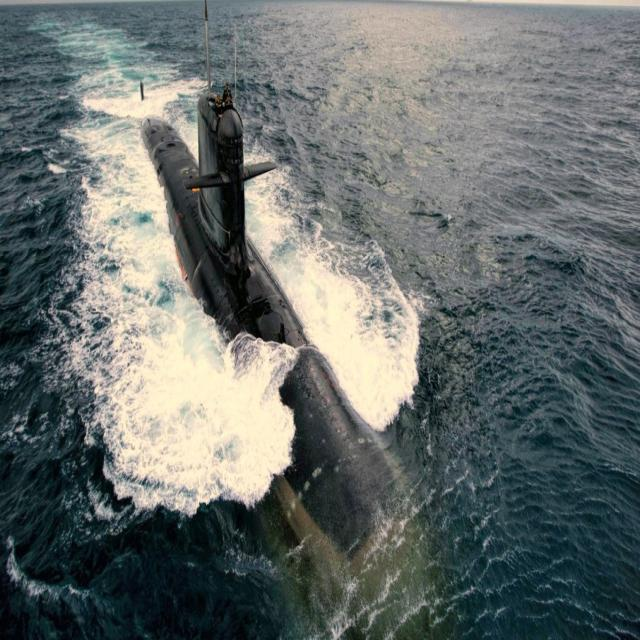submarine: (130, 1, 431, 573)
